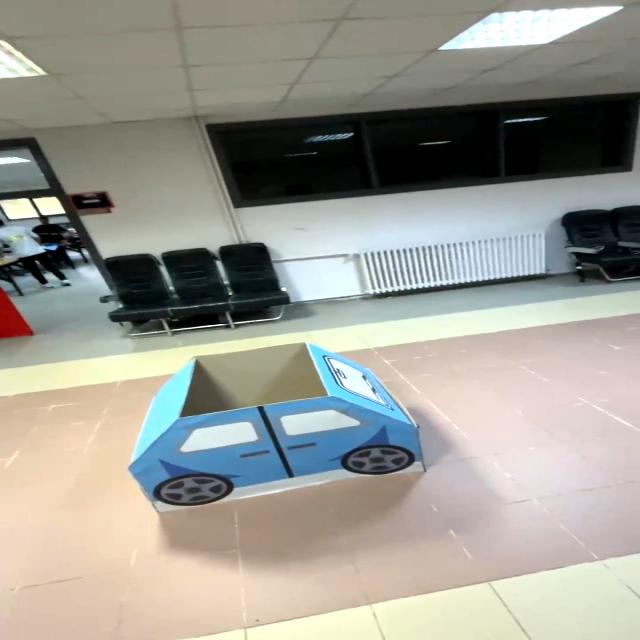blue_car: (64, 331, 468, 522)
